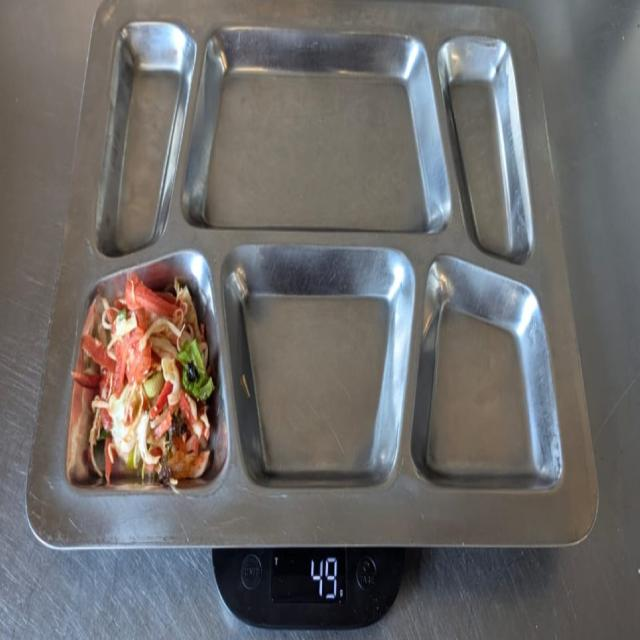Salad: (96, 296, 204, 476)
